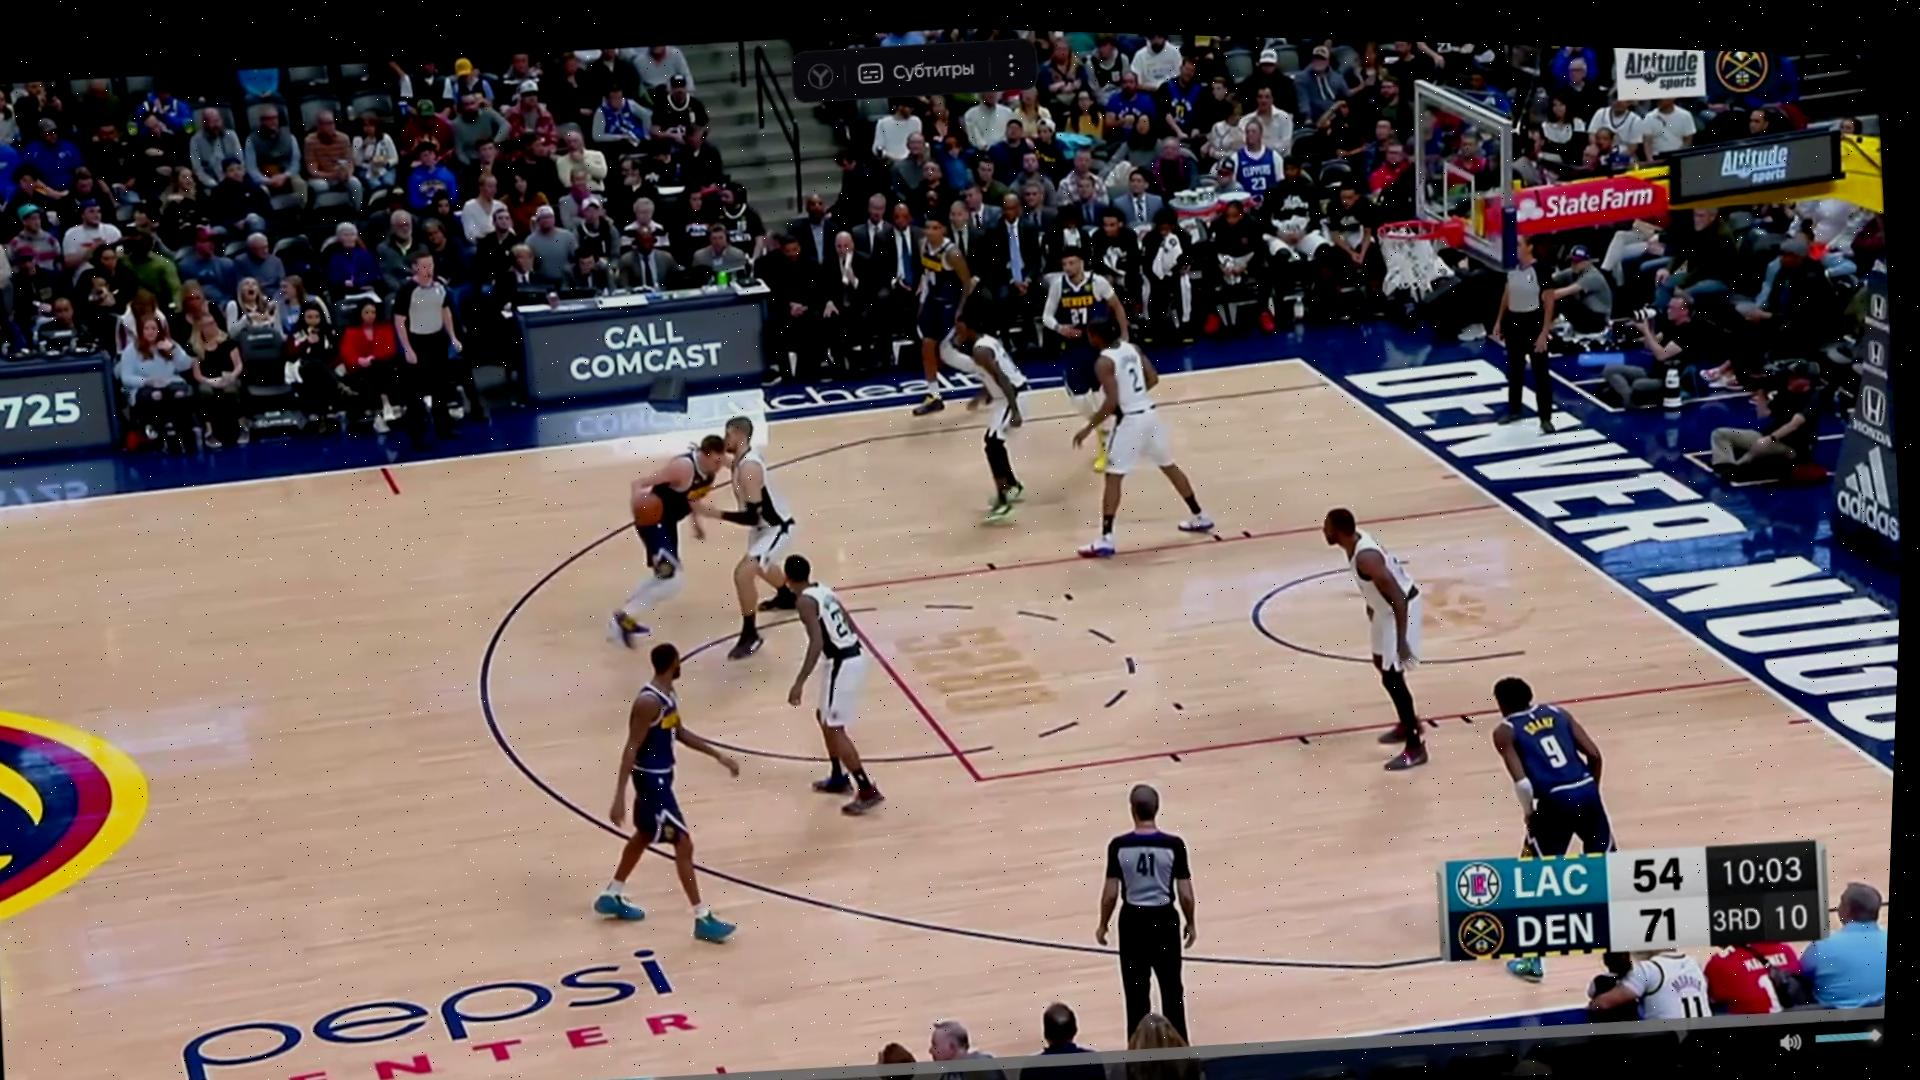foul: (587, 407, 860, 655)
